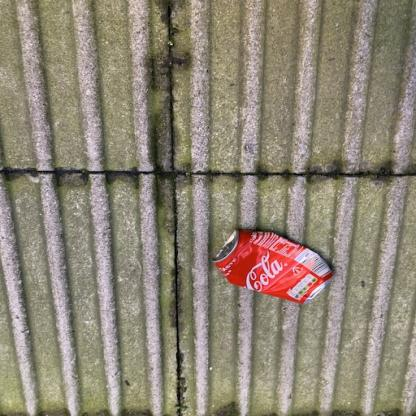trash: (211, 226, 343, 314)
